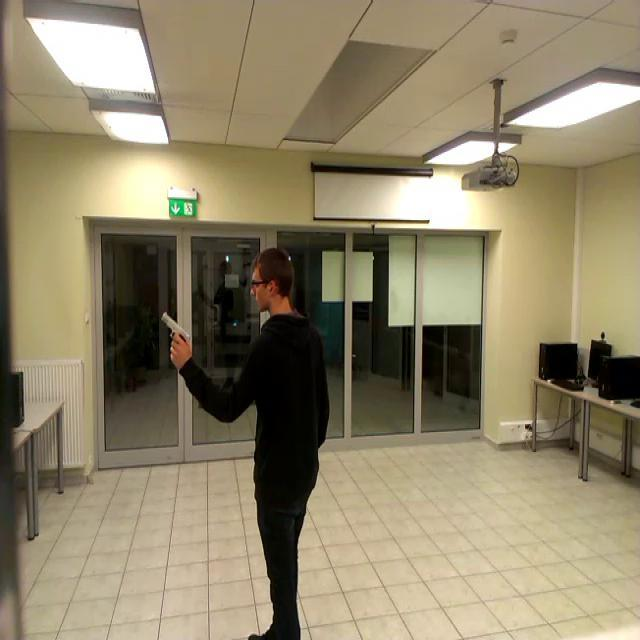Gun: (162, 310, 192, 359)
